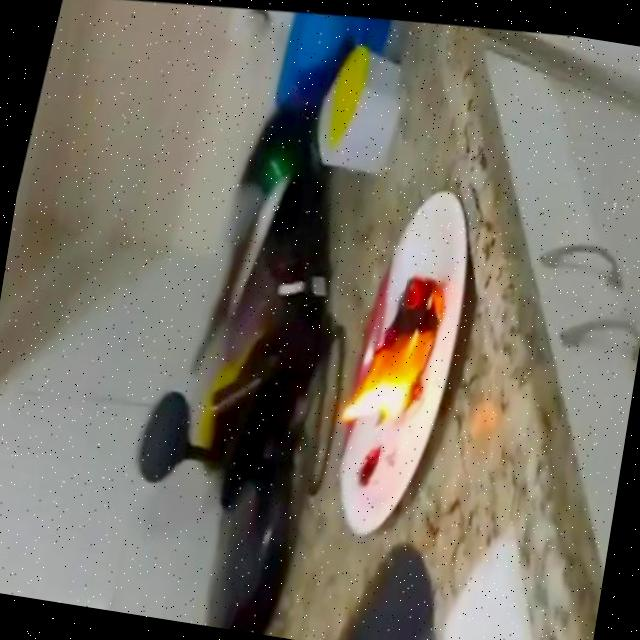fire: (328, 255, 454, 441)
